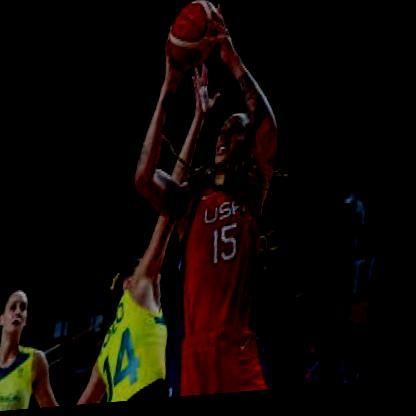basketball: (167, 1, 224, 73)
